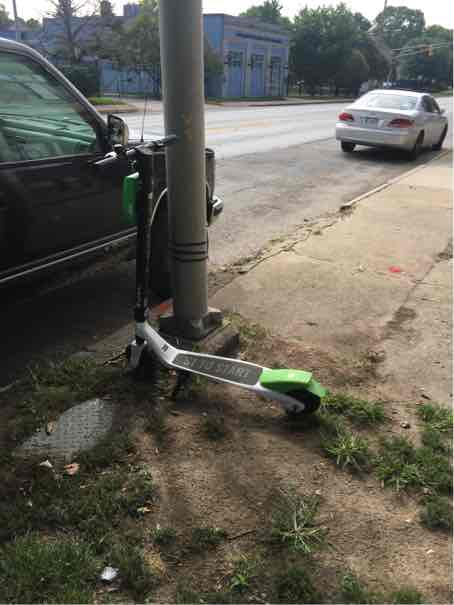scooter: (72, 133, 329, 425)
